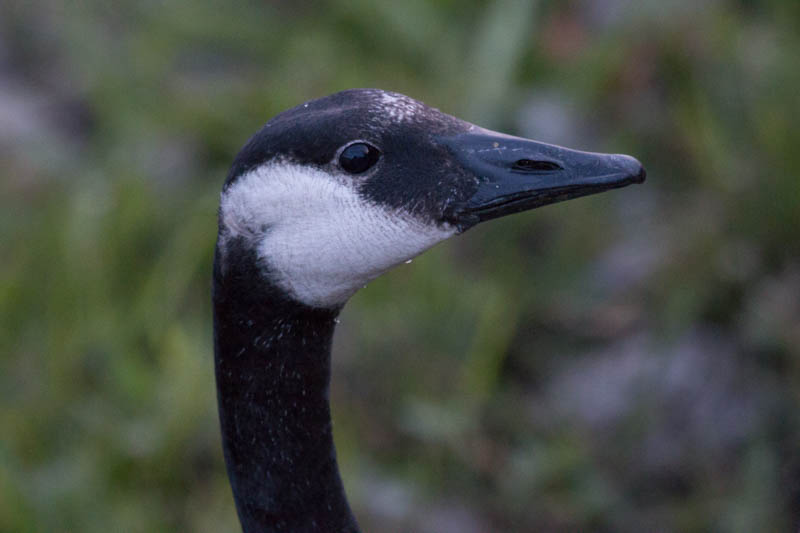goose-head: (214, 88, 646, 317)
